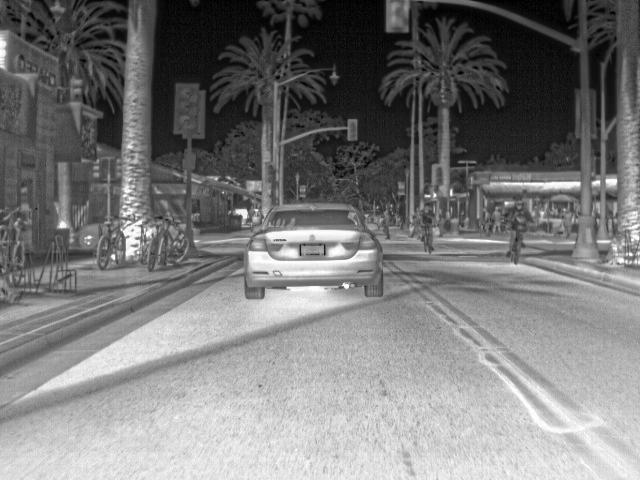car: (243, 200, 383, 299), (76, 222, 97, 248)
person: (509, 198, 531, 232), (480, 205, 493, 237), (490, 206, 506, 232), (420, 202, 435, 228), (563, 205, 574, 239), (379, 211, 390, 241), (531, 204, 539, 230)
